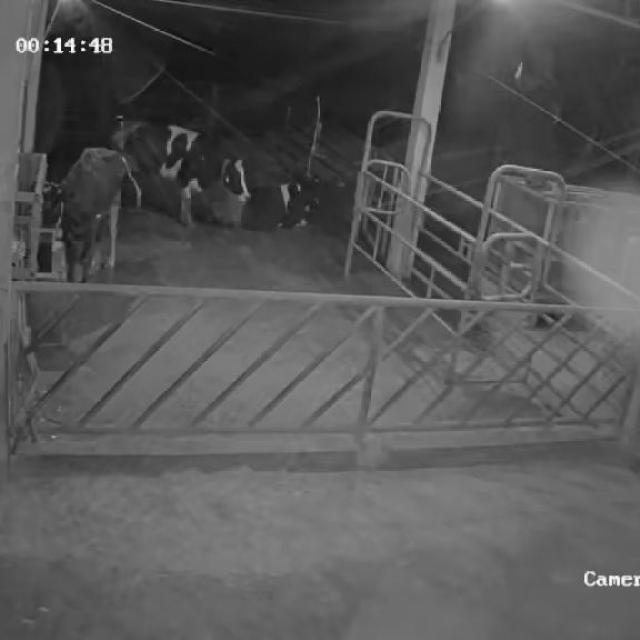drinking: (52, 147, 135, 286)
lying down: (203, 176, 327, 233)
standing: (108, 116, 249, 230)
